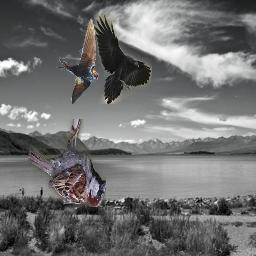Crow: (94, 14, 152, 104)
Sparrow: (28, 119, 106, 207)
Swallow: (57, 18, 100, 104)
